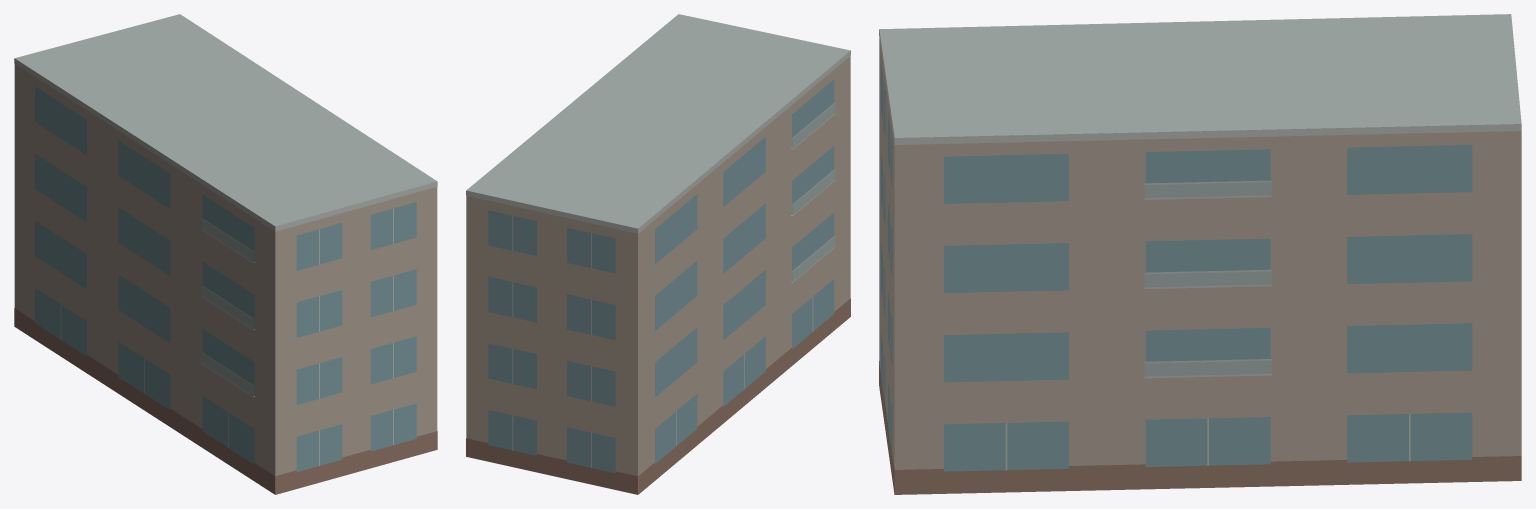
The model's file is survey-upis-32738836.glb.
The picture shows the model from 3 angles, left to right: view 1: azimuth 30°, elevation 25°; view 2: azimuth 150°, elevation 25°; view 3: azimuth 270°, elevation 25°; orthographic projection. The views are drawn at different scales.
Parts seen in each view (by area): view 1: survey-upis-32738836.tmp; view 2: survey-upis-32738836.tmp; view 3: survey-upis-32738836.tmp.
Boxes of the visible parts, bbox=[...] form: survey-upis-32738836.tmp: bbox=[14, 14, 437, 494]; survey-upis-32738836.tmp: bbox=[466, 14, 850, 494]; survey-upis-32738836.tmp: bbox=[879, 14, 1521, 494].
Size of the model in its own units: 9.25 by 12.4 by 20.24.
